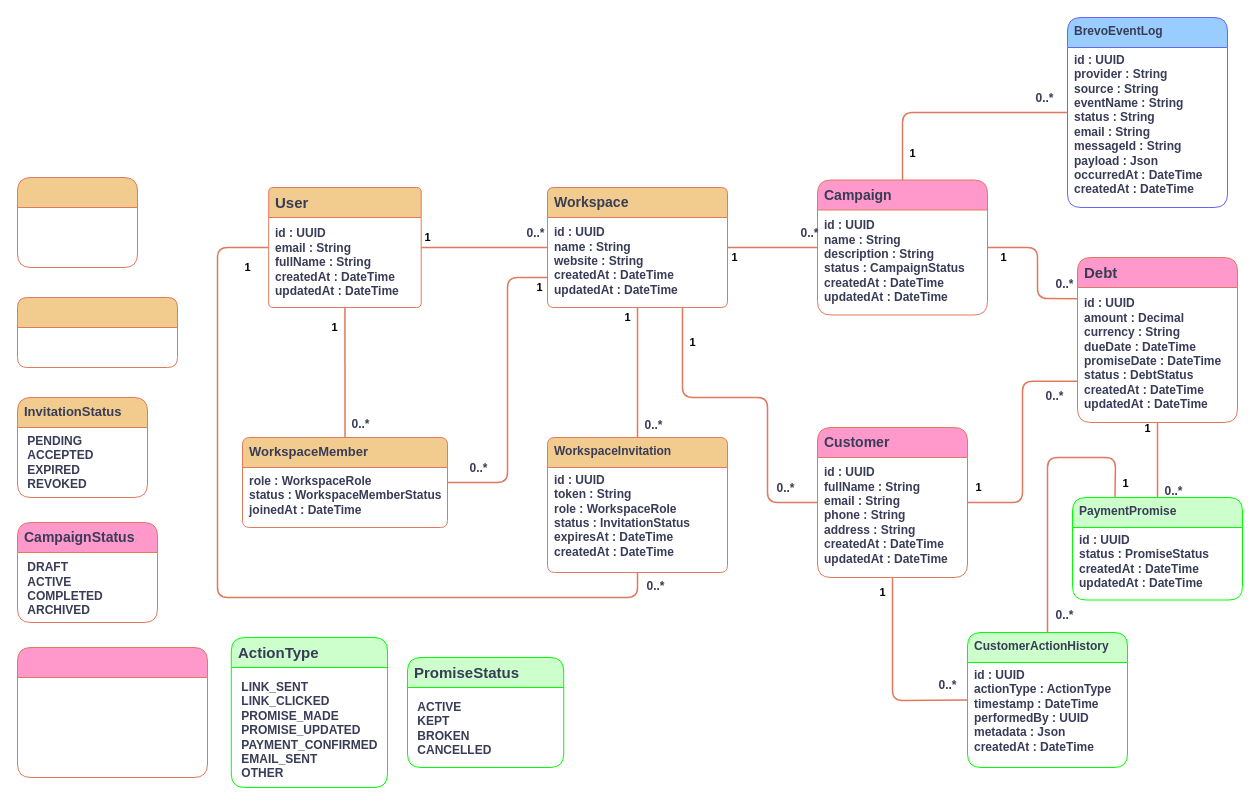
Image size: 1260x805. Some labels were removed from this diagram. The centre of each missing label's shape, as x and y in pixels:
DebtStatus IMPORTED UNPAID NOTIFIED PROMISE_TO_PAY PAID OVERDUE_AFTER_PROMISE: point (112, 712)
WorkspaceMemberStatus ACTIVE INACTIVE: point (97, 332)
WorkspaceRole Owner Manger Agent: point (77, 222)
